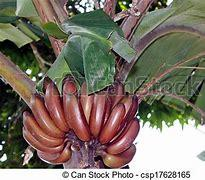banana: (15, 68, 149, 173)
